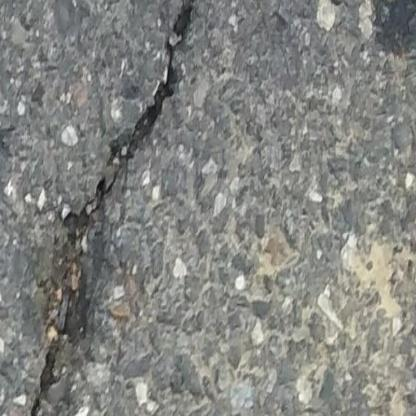Cracks: (16, 0, 218, 416)
